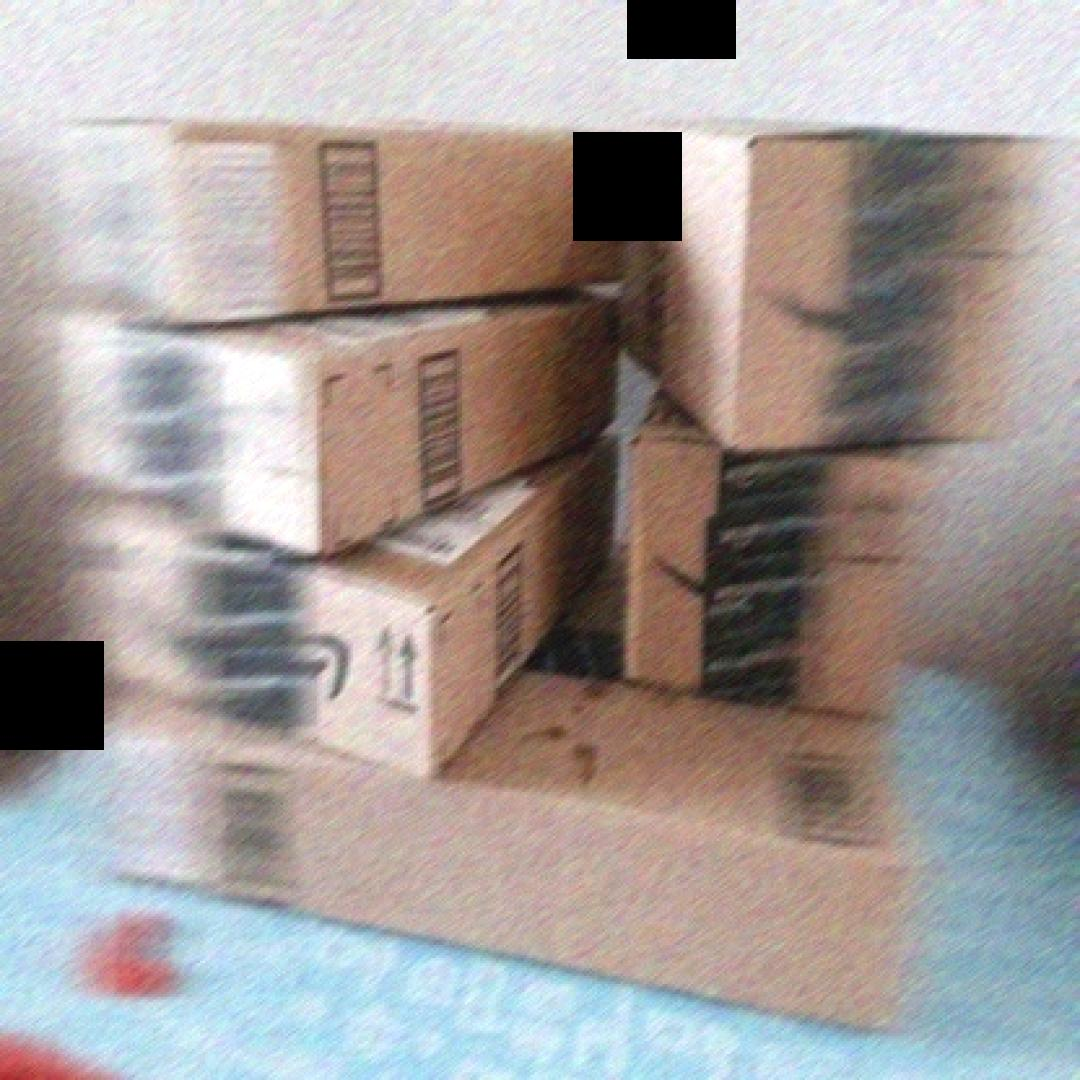package: (99, 696, 934, 1038), (88, 423, 623, 787), (52, 302, 646, 548), (613, 109, 1049, 444), (65, 106, 642, 324), (612, 441, 938, 719)
